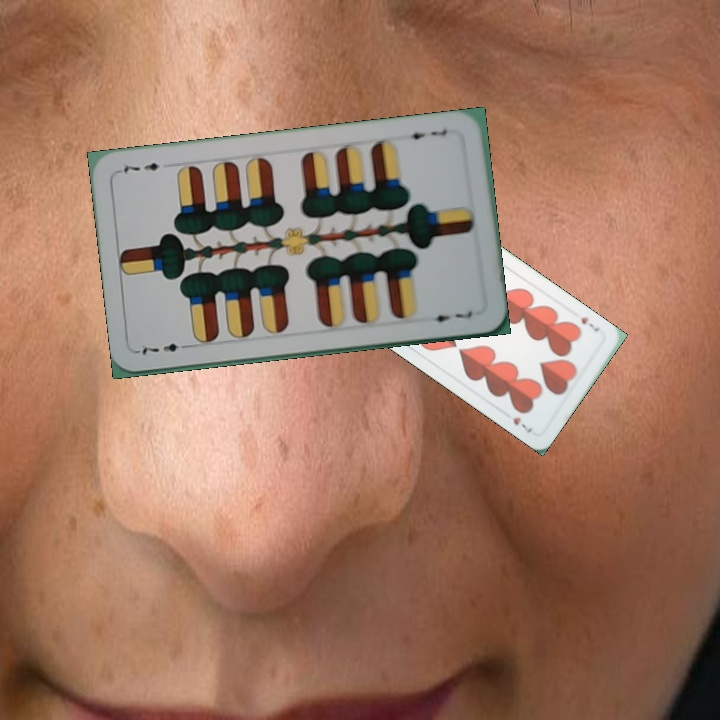E7: (135, 339, 194, 357), (402, 125, 450, 143)
H7: (577, 313, 602, 334)
